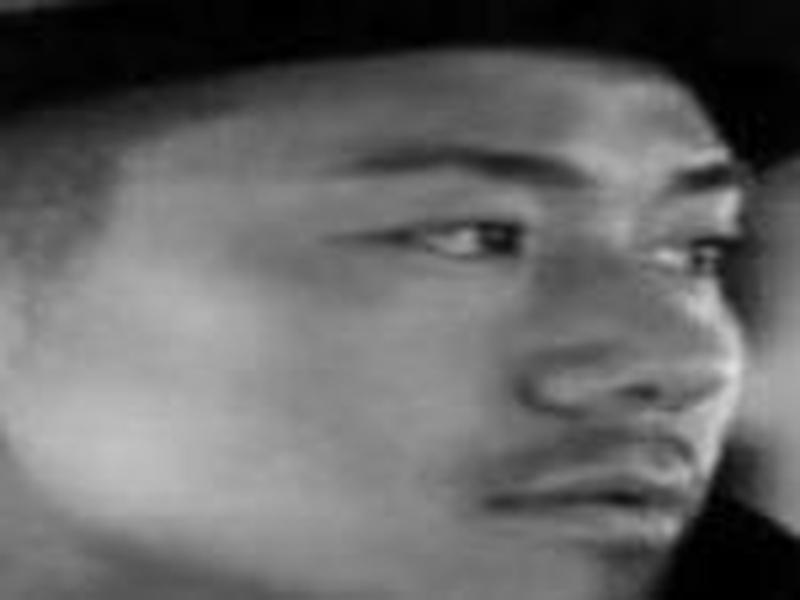without_mask: (2, 53, 748, 597)
